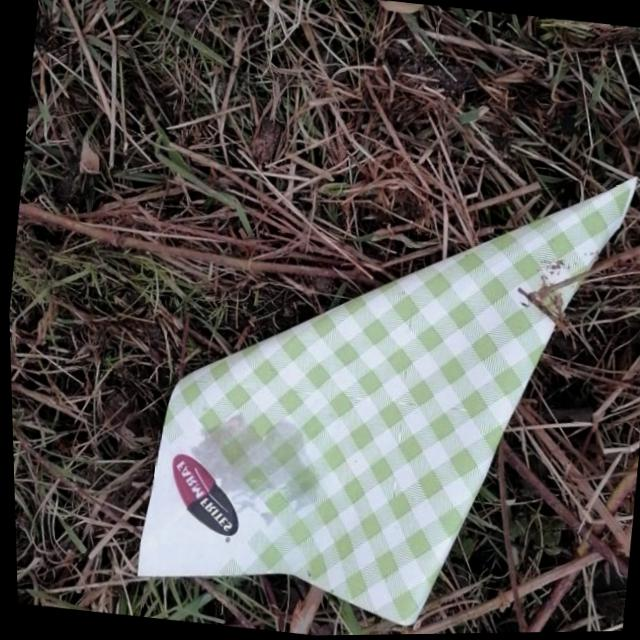Paper: (116, 118, 640, 639)
